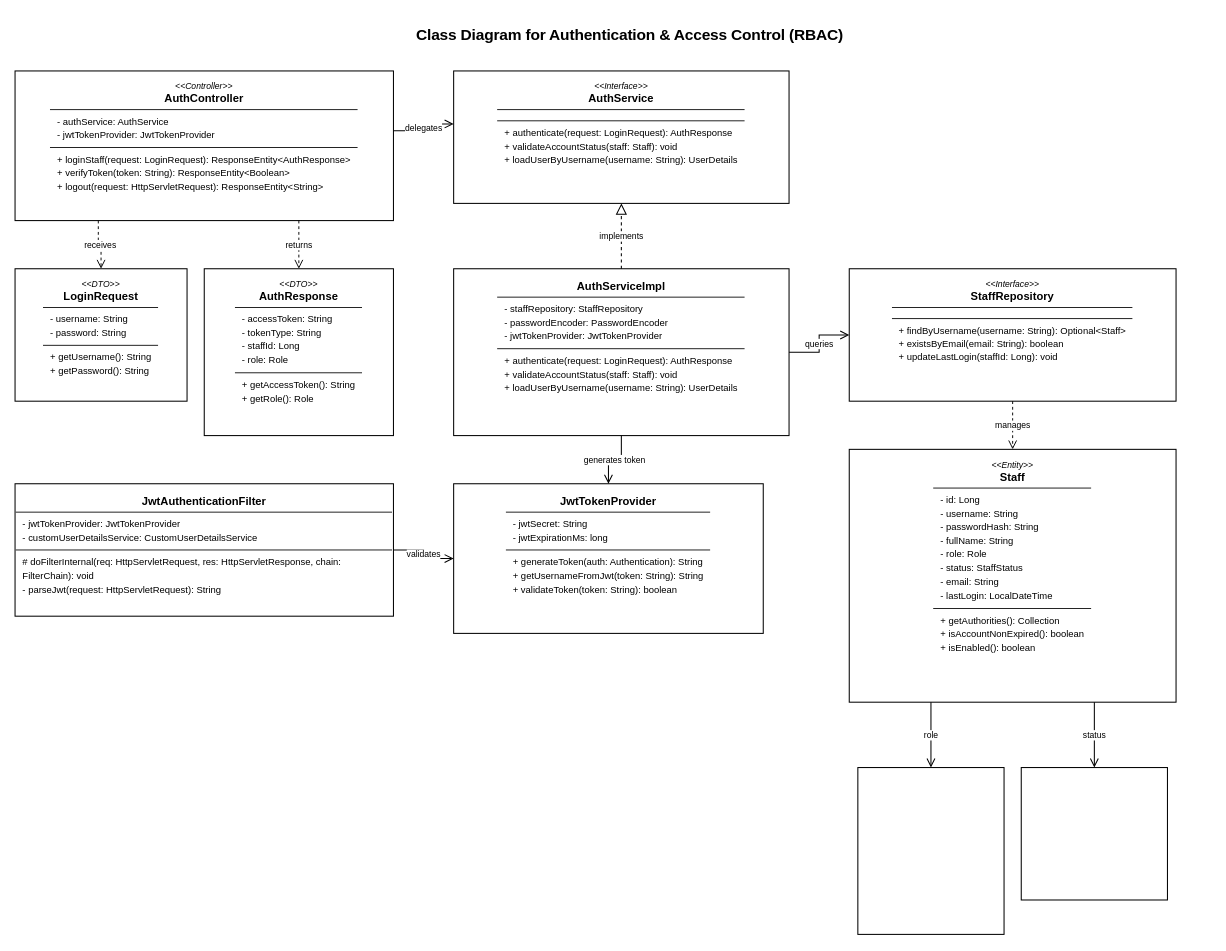
The diagram is 1226 pixels wide and 951 high, and some of its shapes have lost their labels. Here are the shapes that lost their labels. From the top down, the centre of each, then its label:
At (x=930, y=850): "<<Enumeration>> Role ADMIN MANAGER CASHIER WAITER CHEF".
At (x=1094, y=833): "<<Enumeration>> StaffStatus ACTIVE INACTIVE SUSPENDED".
